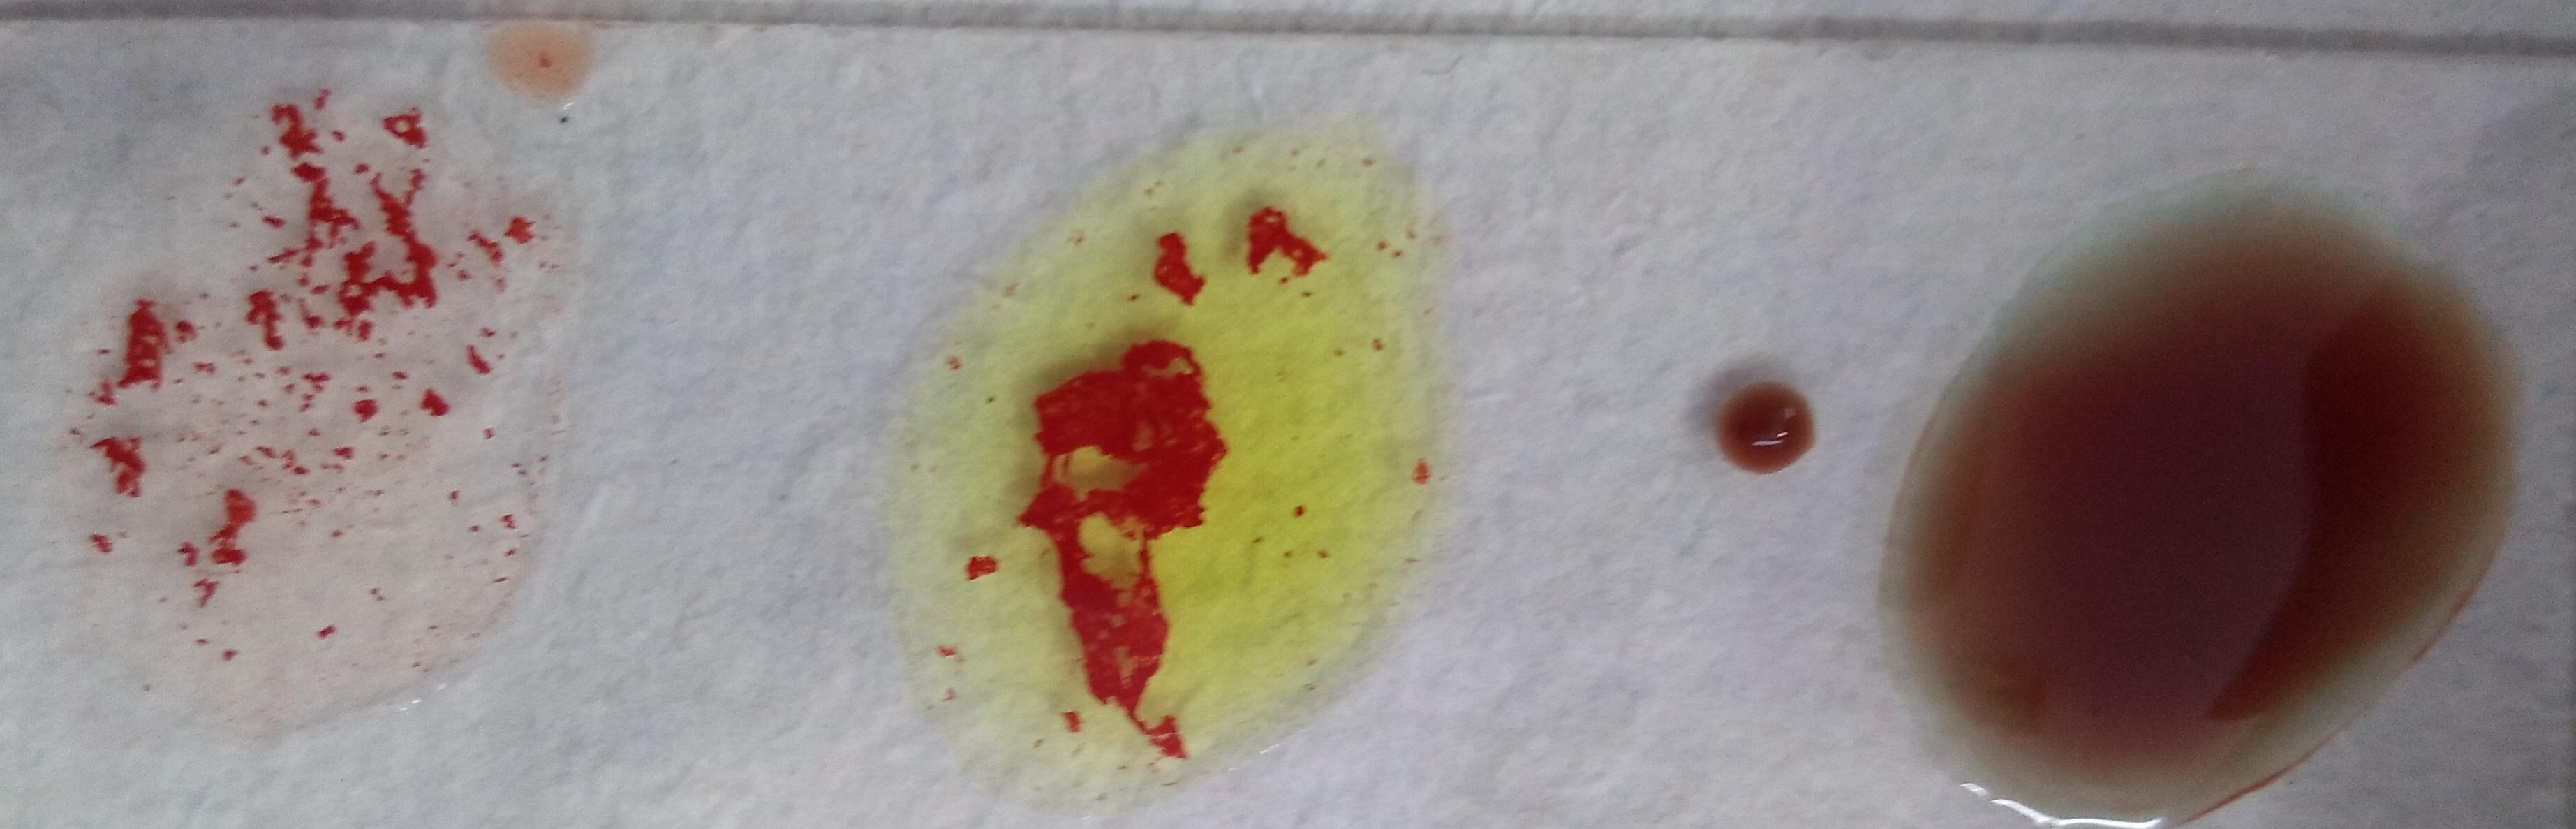B: (895, 135, 1431, 790)
D: (33, 54, 570, 724)
